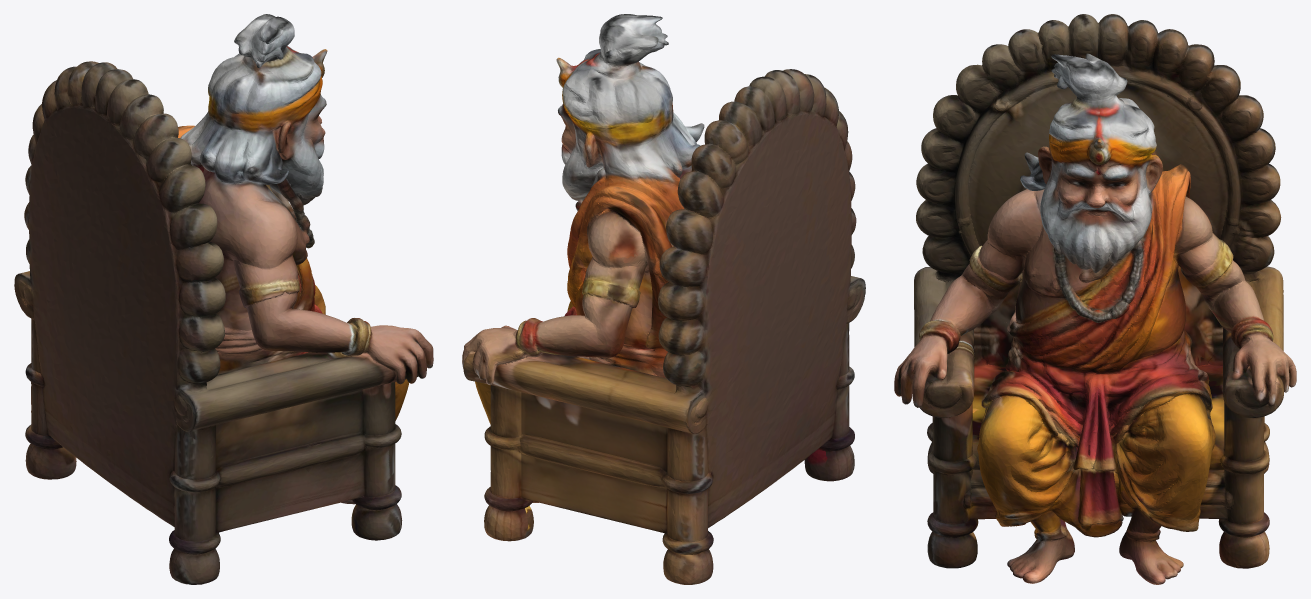
The model's file is modelo11.glb.
The picture shows the model from 3 angles, left to right: view 1: azimuth 30°, elevation 25°; view 2: azimuth 150°, elevation 25°; view 3: azimuth 270°, elevation 25°; orthographic projection. The views are drawn at different scales.
Visible parts, largest first — view 1: tripo_node_7bc43dee-85b9-402d-bcec-f7ea4201cb5f; view 2: tripo_node_7bc43dee-85b9-402d-bcec-f7ea4201cb5f; view 3: tripo_node_7bc43dee-85b9-402d-bcec-f7ea4201cb5f.
Boxes of the visible parts, x1,y1,x2,y2 form: tripo_node_7bc43dee-85b9-402d-bcec-f7ea4201cb5f: (14,14,433,584); tripo_node_7bc43dee-85b9-402d-bcec-f7ea4201cb5f: (462,14,865,584); tripo_node_7bc43dee-85b9-402d-bcec-f7ea4201cb5f: (894,14,1296,584).
Bounding box in the file's own units: 0.5887 × 1 × 0.7587.
Materials: 1 (1 with a texture image).
